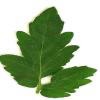Tomato leaf: (2, 4, 73, 89), (41, 64, 98, 97)
